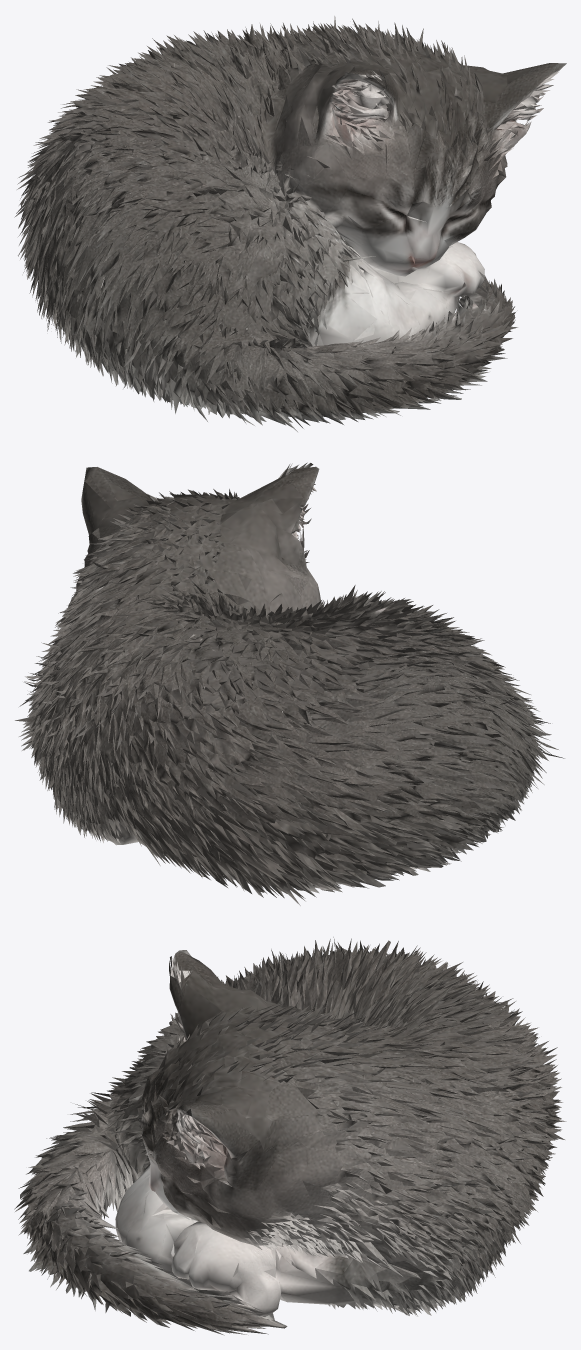
The model's file is MunchkinSleeping.fbx.
3 renders of one model, top to bottom at view 1: azimuth 30°, elevation 25°; view 2: azimuth 150°, elevation 25°; view 3: azimuth 270°, elevation 25°, orthographic. The views are drawn at different scales.
Parts seen in each view (by area): view 1: Mesh_0; view 2: Mesh_0; view 3: Mesh_0.
Part boxes in pixels (x1,y1,x2,y2): Mesh_0: (14, 16, 566, 431); Mesh_0: (15, 462, 564, 905); Mesh_0: (14, 937, 566, 1335).
Size of the model in its own units: 189 by 110 by 180.
Materials: 1 (1 with a texture image).
